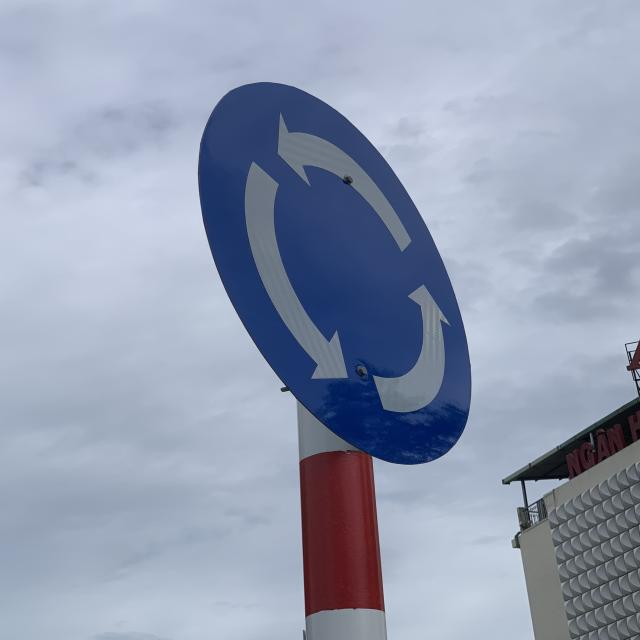Xe_Bus: (197, 81, 477, 471)
